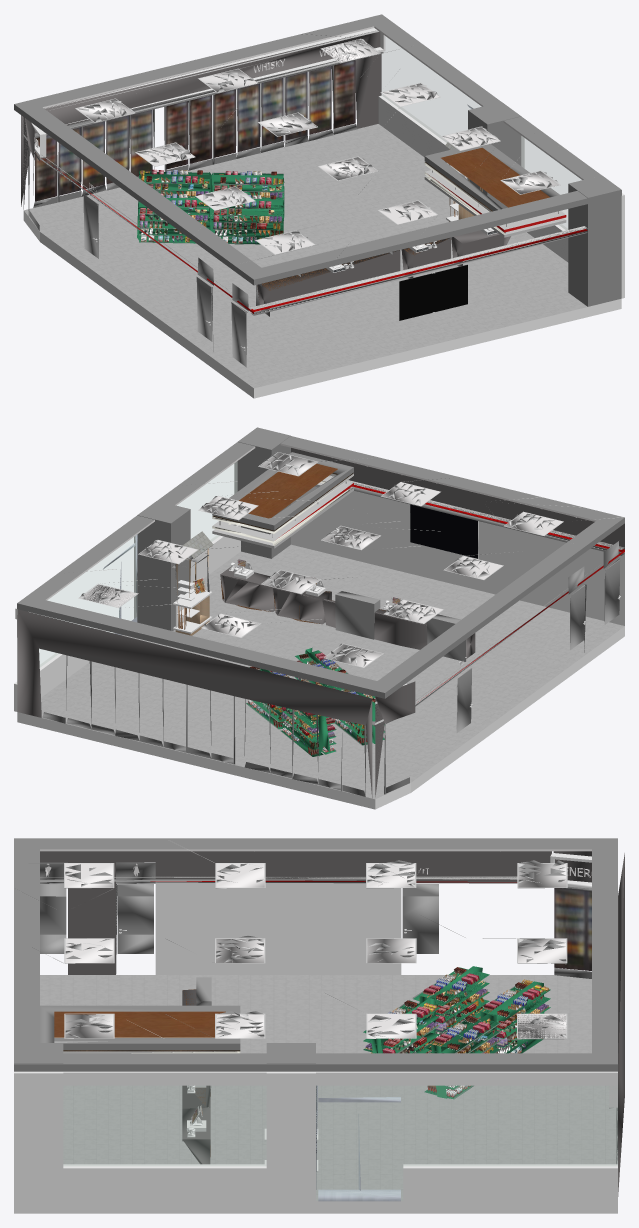
File: store.glb
3 views of the same model, one above another, from view 1: azimuth 30°, elevation 25°; view 2: azimuth 150°, elevation 25°; view 3: azimuth 270°, elevation 25° (orthographic). The views are drawn at different scales.
Visible parts, largest first — view 1: store; view 2: store; view 3: store.
Boxes of the visible parts, bbox=[...] form: store: bbox=[14, 14, 624, 398]; store: bbox=[14, 427, 624, 809]; store: bbox=[14, 838, 624, 1213].
Size of the model in its own units: 11.55 by 3.58 by 12.92.
Materials: 49 (46 with a texture image).
